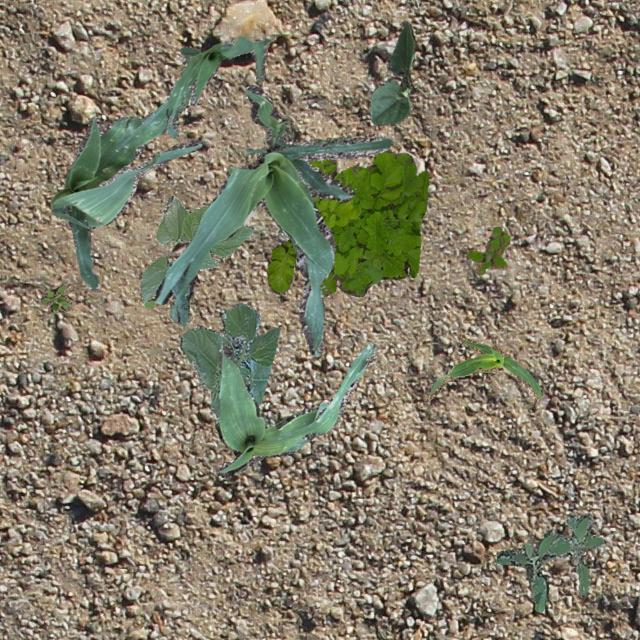crop: (154, 84, 392, 356), (50, 54, 200, 290), (213, 342, 374, 477), (138, 195, 254, 306), (180, 302, 280, 414), (165, 35, 268, 136), (422, 336, 540, 402), (370, 20, 414, 124)
weed: (266, 148, 428, 296), (494, 512, 602, 612), (466, 226, 508, 274), (41, 282, 74, 312)
